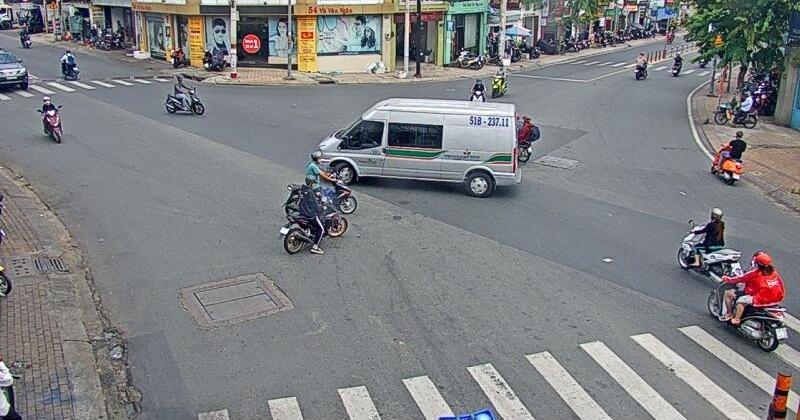xe may: (707, 252, 787, 353), (280, 175, 347, 254), (676, 207, 742, 276), (304, 151, 357, 214), (710, 130, 747, 185), (164, 75, 205, 116), (37, 96, 63, 142)
xe van: (317, 95, 517, 195)
